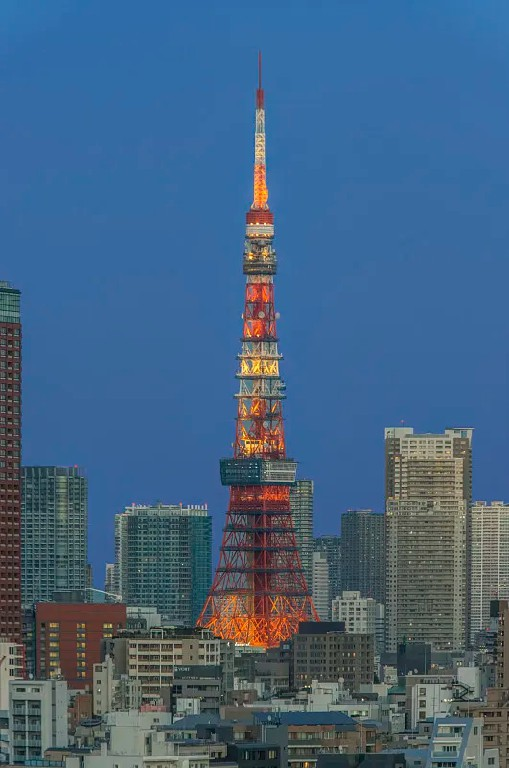Tokyo: (197, 44, 320, 636)
